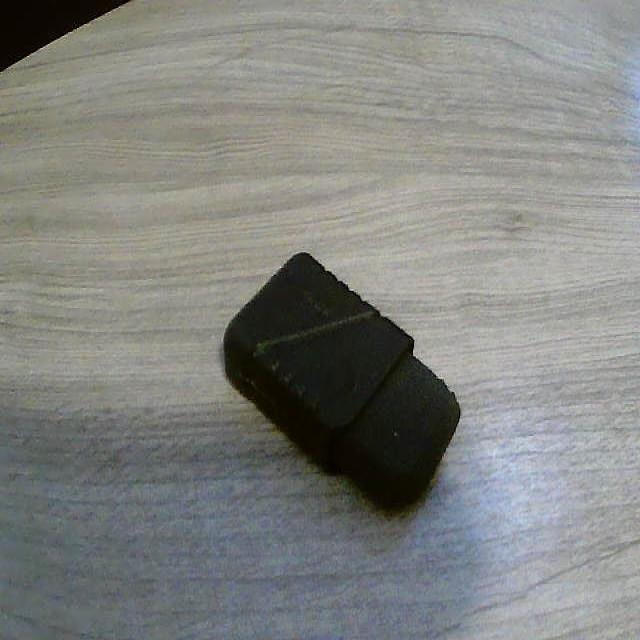borracha: (176, 238, 483, 522)
